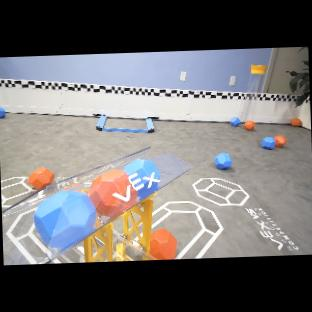Loader: (239, 65, 268, 123)
Low_goal: (72, 199, 157, 263), (164, 239, 164, 239)
Med_goal: (2, 147, 192, 265)
Parking - B: (96, 115, 158, 133), (63, 214, 63, 214)
V5_BLUE: (214, 153, 232, 169), (261, 137, 276, 149), (231, 117, 240, 127), (0, 107, 6, 118)
V5_RED: (150, 228, 177, 260), (28, 167, 54, 189), (273, 135, 287, 148), (244, 121, 255, 131), (291, 118, 302, 127), (222, 163, 222, 163)
blueingoal: (34, 190, 97, 249), (123, 159, 161, 200), (0, 110, 1, 111)
